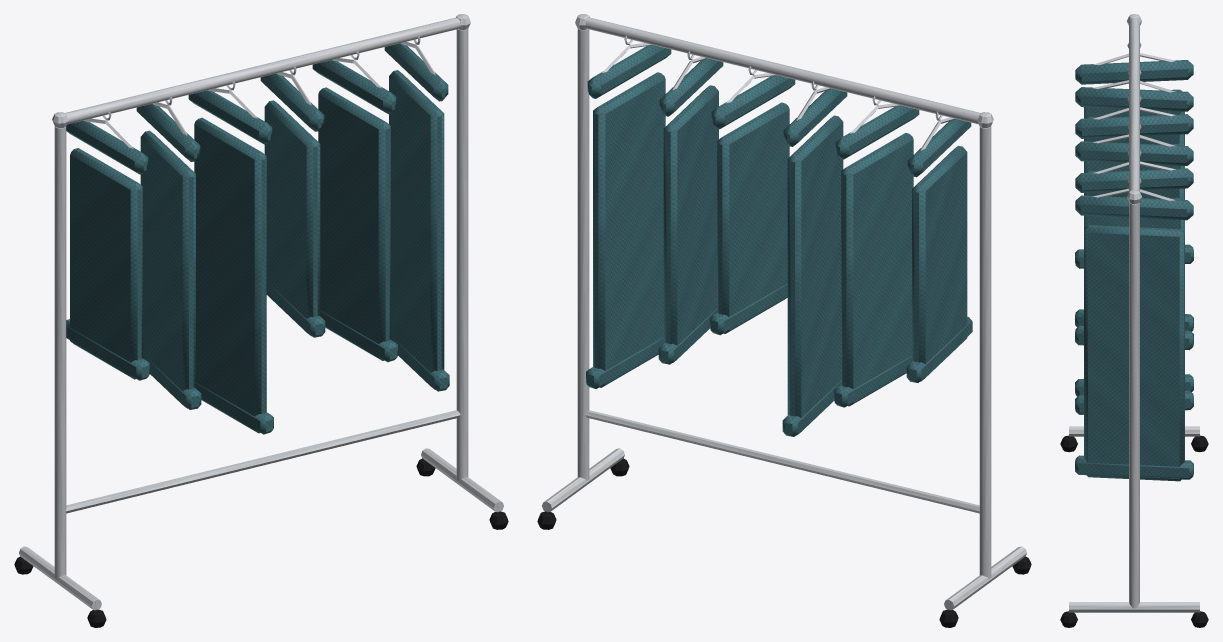
File: arara-14-6.glb
3 renders of one model, left to right at view 1: azimuth 30°, elevation 25°; view 2: azimuth 150°, elevation 25°; view 3: azimuth 270°, elevation 25°, orthographic. The views are drawn at different scales.
Parts seen in each view (by area): view 1: corpo.002, corpo.004, corpo.005, corpo, corpo.001, corpo.003, coluna, coluna.001, varao, travessa, ombros.002, ombros.004 (+12 smaller); view 2: corpo.005, corpo.001, corpo.002, corpo.003, corpo.004, corpo, coluna, coluna.001, varao, travessa, ombros.003, ombros.001 (+12 smaller); view 3: corpo.005, coluna.001, ombros.005, ombros.004, ombros, ombros.003, ombros.002, ombros.001, varao, barra.005, pe.001, corpo.004 (+14 smaller).
Part boxes in pixels (x1=…): corpo.002: x1=194, y1=117, x2=266, y2=433; corpo.004: x1=318, y1=87, x2=390, y2=360; corpo.005: x1=389, y1=70, x2=444, y2=389; corpo: x1=70, y1=148, x2=142, y2=379; corpo.001: x1=140, y1=130, x2=195, y2=408; corpo.003: x1=264, y1=100, x2=320, y2=336; coluna: x1=54, y1=126, x2=66, y2=578; coluna.001: x1=456, y1=28, x2=468, y2=480; varao: x1=65, y1=17, x2=460, y2=124; travessa: x1=66, y1=410, x2=460, y2=513; ombros.002: x1=188, y1=90, x2=272, y2=144; ombros.004: x1=312, y1=60, x2=396, y2=114; corpo.005: x1=593, y1=72, x2=665, y2=387; corpo.001: x1=841, y1=133, x2=913, y2=406; corpo.002: x1=787, y1=115, x2=843, y2=435; corpo.003: x1=717, y1=102, x2=789, y2=333; corpo.004: x1=663, y1=85, x2=718, y2=362; corpo: x1=912, y1=145, x2=967, y2=381; coluna: x1=979, y1=126, x2=991, y2=578; coluna.001: x1=577, y1=28, x2=589, y2=480; varao: x1=585, y1=17, x2=980, y2=124; travessa: x1=585, y1=410, x2=979, y2=513; ombros.003: x1=711, y1=75, x2=795, y2=129; ombros.001: x1=835, y1=105, x2=919, y2=159; corpo.005: x1=1084, y1=225, x2=1184, y2=481; coluna.001: x1=1129, y1=202, x2=1139, y2=608; ombros.005: x1=1075, y1=195, x2=1193, y2=220; ombros.004: x1=1075, y1=168, x2=1193, y2=192; ombros: x1=1075, y1=60, x2=1193, y2=84; ombros.003: x1=1075, y1=141, x2=1193, y2=165; ombros.002: x1=1075, y1=114, x2=1193, y2=138; ombros.001: x1=1075, y1=87, x2=1193, y2=111; varao: x1=1129, y1=19, x2=1139, y2=191; barra.005: x1=1075, y1=455, x2=1193, y2=479; pe.001: x1=1069, y1=602, x2=1199, y2=612; corpo.004: x1=1084, y1=198, x2=1184, y2=232.
Size of the model in its own units: 1.46 by 1.63 by 0.5.
Materials: 3 (2 with a texture image).
